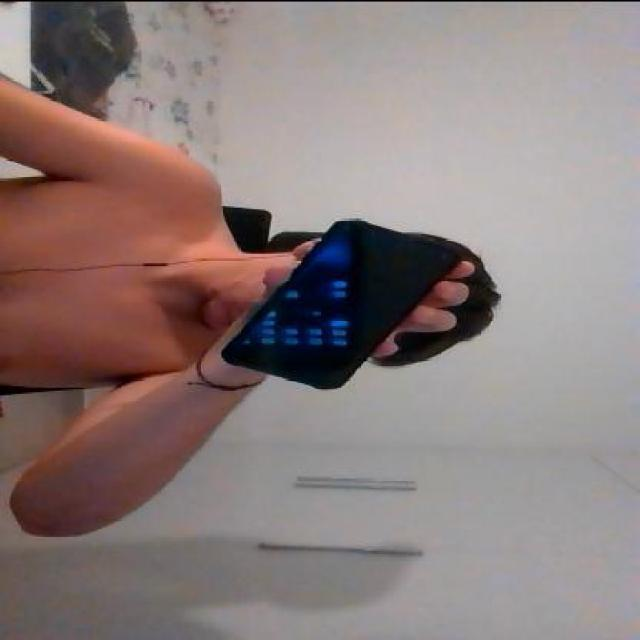phone: (217, 216, 461, 387)
